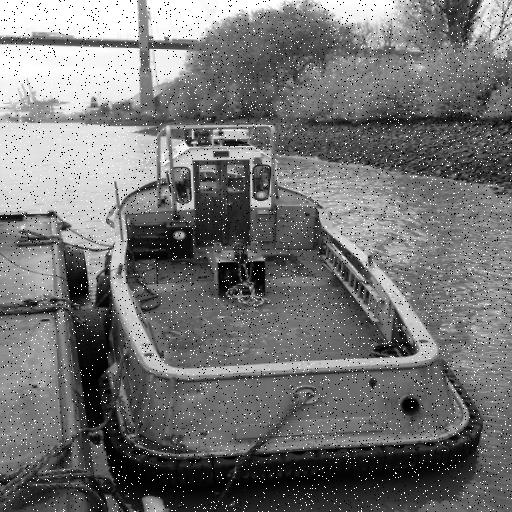tugboat: (92, 119, 491, 477)
